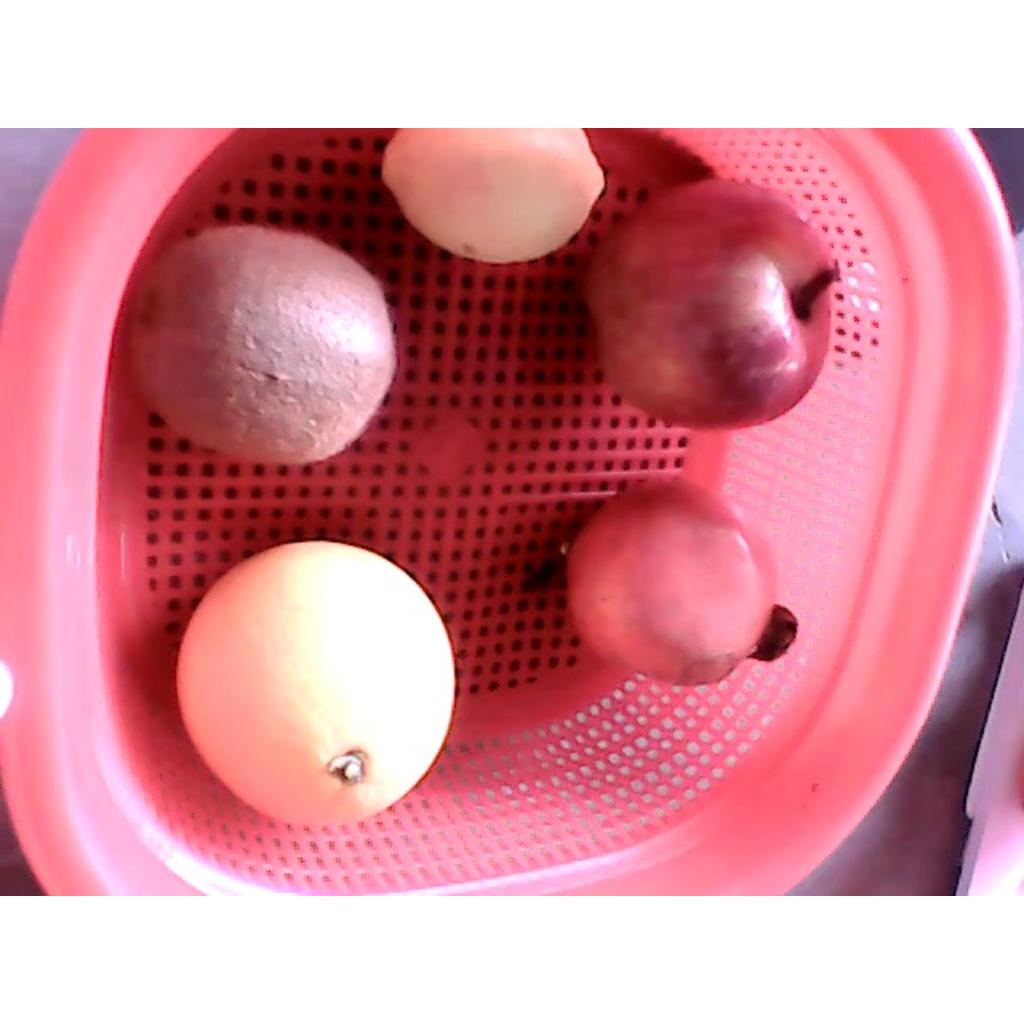apple: (583, 175, 841, 433)
kiwi: (120, 223, 398, 466)
lemon: (382, 128, 607, 262)
orange: (176, 540, 455, 827)
pomegranate: (567, 474, 799, 686)
